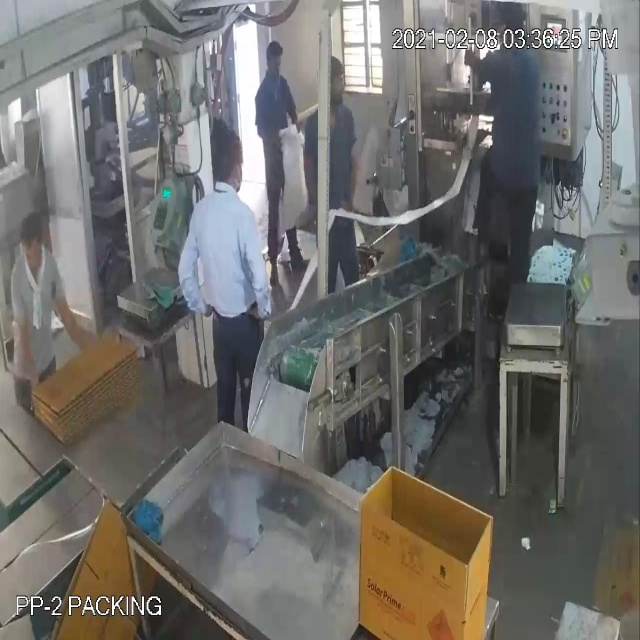Sin_guantes: (238, 217, 274, 330), (13, 315, 52, 401), (58, 278, 102, 353), (179, 237, 215, 326)
